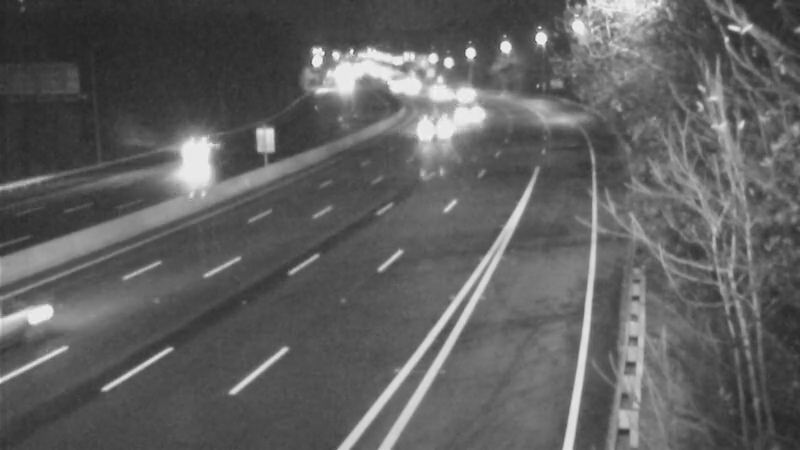vehicle: (1, 268, 92, 378), (170, 116, 250, 196), (413, 65, 463, 115), (441, 69, 491, 119), (440, 93, 490, 143), (409, 95, 459, 145)
